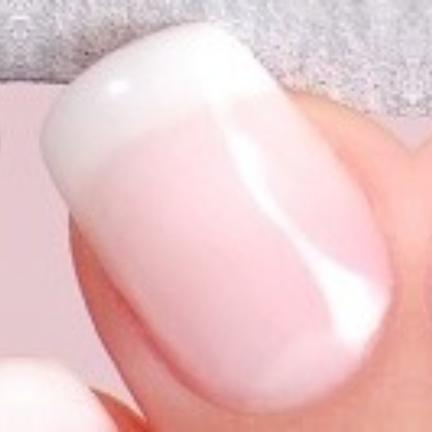Nail: (38, 22, 397, 416), (427, 252, 432, 315)
